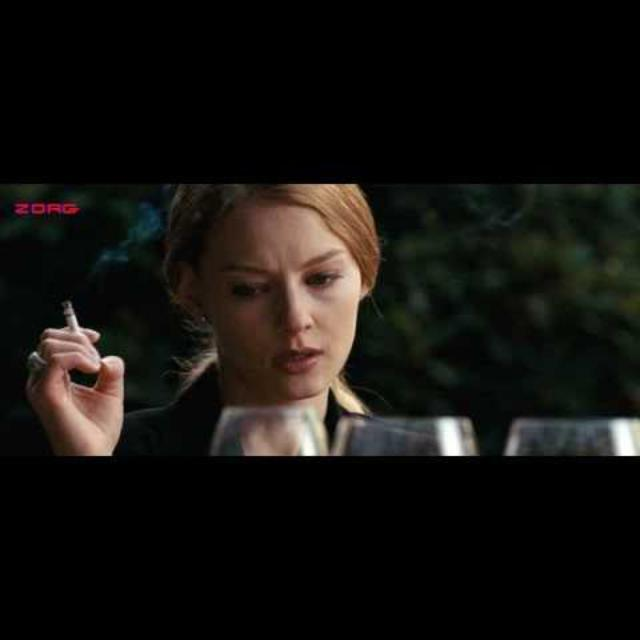rokok: (60, 297, 78, 329)
